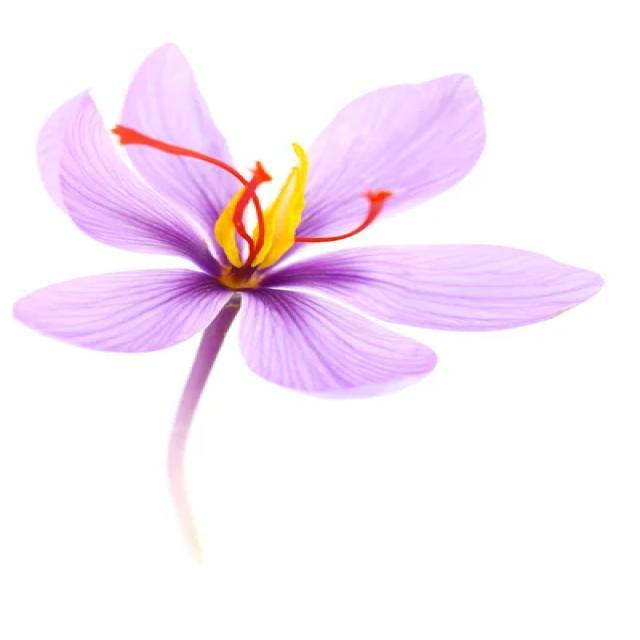Flower: (55, 61, 543, 390)
stigma: (112, 109, 243, 184), (298, 186, 416, 259), (236, 150, 276, 268)
